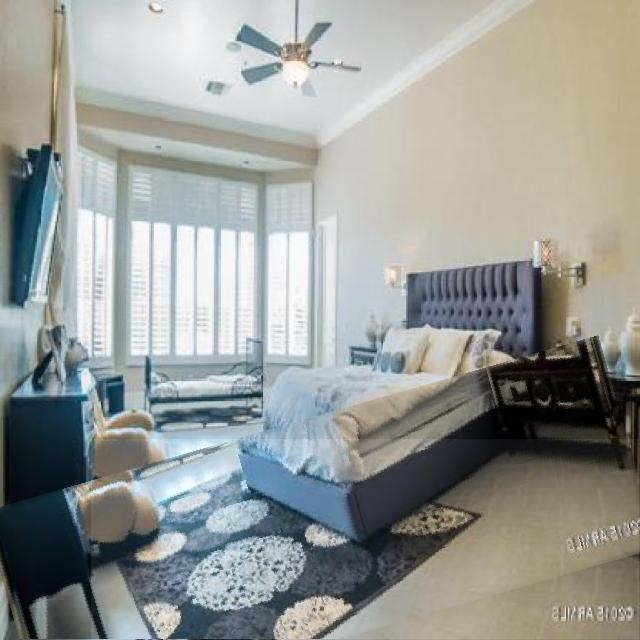floor: (92, 439, 640, 640), (46, 586, 99, 640)
